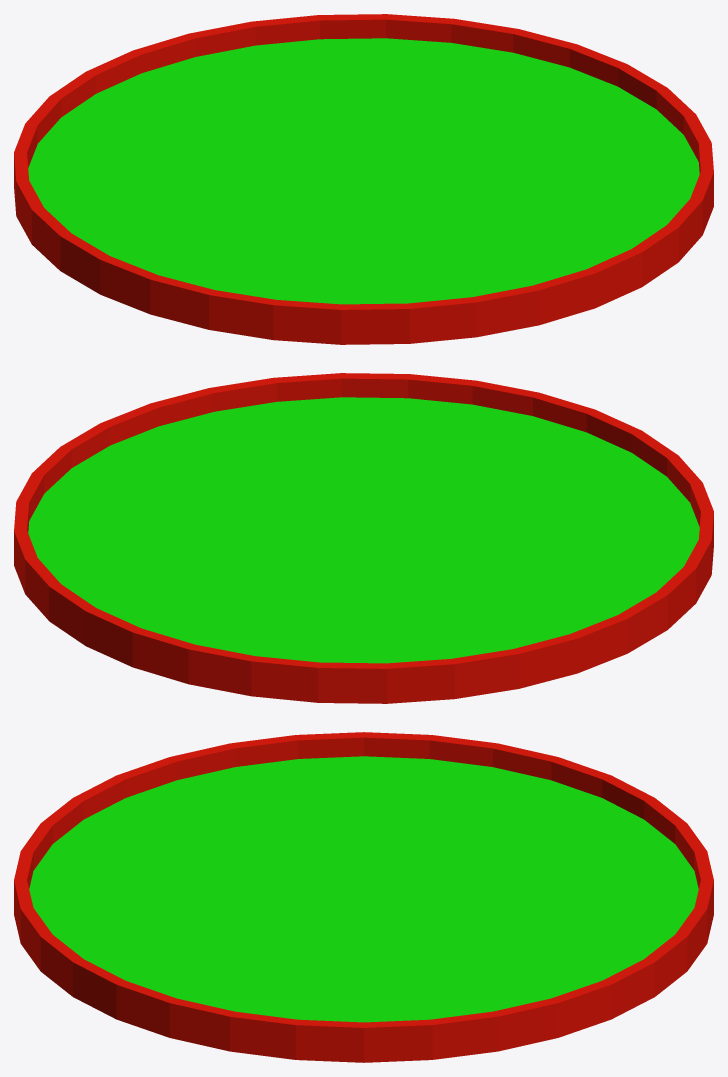
File: table.fbx
The picture shows the model from 3 angles, top to bottom: view 1: azimuth 30°, elevation 25°; view 2: azimuth 150°, elevation 25°; view 3: azimuth 270°, elevation 25°; orthographic projection.
Visible parts, largest first — view 1: Cylinder; view 2: Cylinder; view 3: Cylinder.
Part boxes in pixels (x1,y1,x2,y2): Cylinder: (14,14,713,344); Cylinder: (14,373,713,703); Cylinder: (14,732,713,1062).
Bounding box in the file's own units: 400 × 22 × 400.
